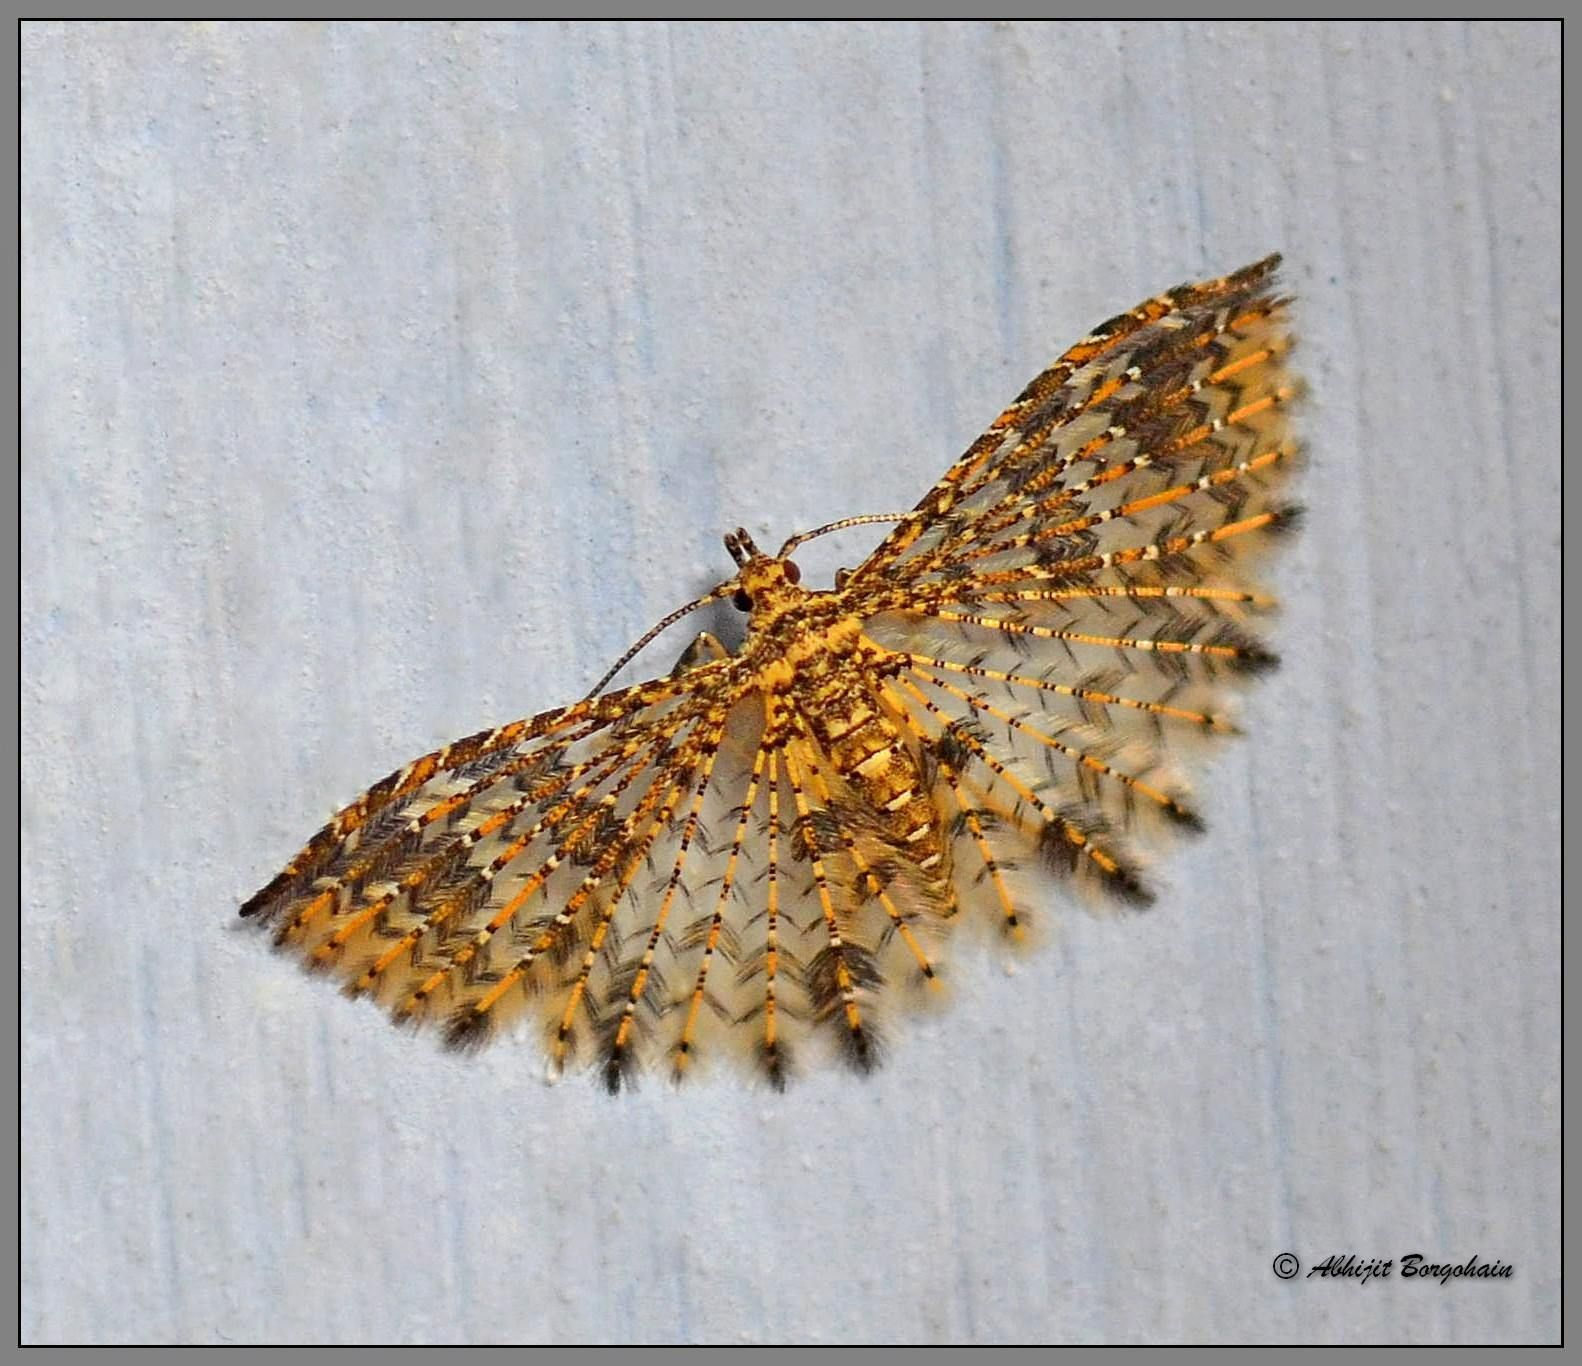Alucitidae: (225, 254, 1321, 1100)
moth: (226, 256, 1322, 1101)
